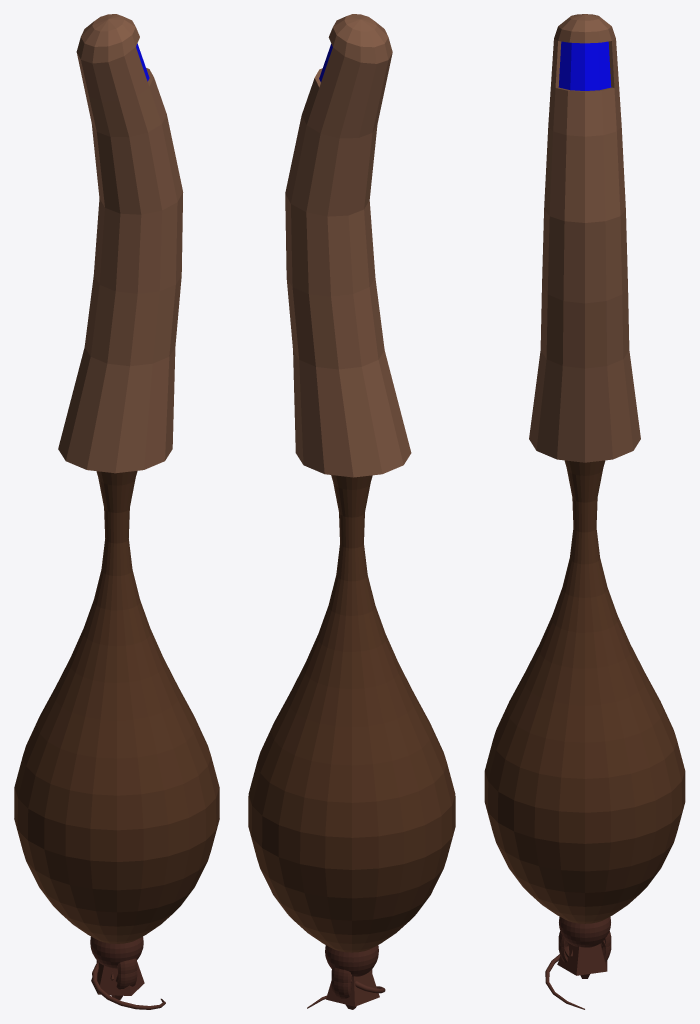
The model's file is Wand 941.glb.
3 views of the same model, side by side, from view 1: azimuth 30°, elevation 25°; view 2: azimuth 150°, elevation 25°; view 3: azimuth 270°, elevation 25° (orthographic). The views are drawn at different scales.
Visible parts, largest first — view 1: GeneratedWand, Pommel_4, Pommel_9, Pommel_10; view 2: GeneratedWand, Pommel_4, Pommel_9; view 3: GeneratedWand, Pommel_4, Pommel_9.
Part boxes in pixels (left/top/right/bottom): GeneratedWand: left=14, top=14, right=219, bottom=982; Pommel_4: left=90, top=936, right=143, bottom=968; Pommel_9: left=91, top=961, right=144, bottom=995; Pommel_10: left=92, top=962, right=165, bottom=1009; GeneratedWand: left=248, top=14, right=455, bottom=989; Pommel_4: left=325, top=945, right=378, bottom=976; Pommel_9: left=326, top=970, right=379, bottom=1006; GeneratedWand: left=484, top=14, right=685, bottom=957; Pommel_4: left=559, top=917, right=610, bottom=947; Pommel_9: left=557, top=943, right=607, bottom=975.
Bounding box in the file's own units: 0.1026 × 0.5466 × 0.1026.
